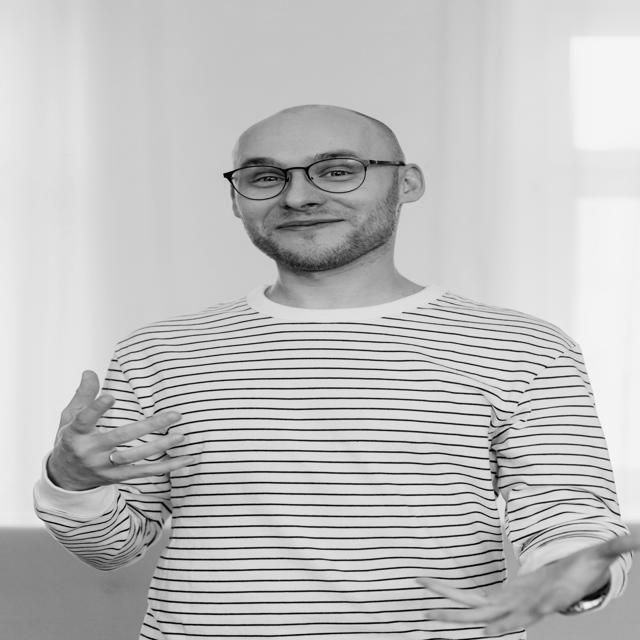Happiness: (228, 110, 397, 270)
